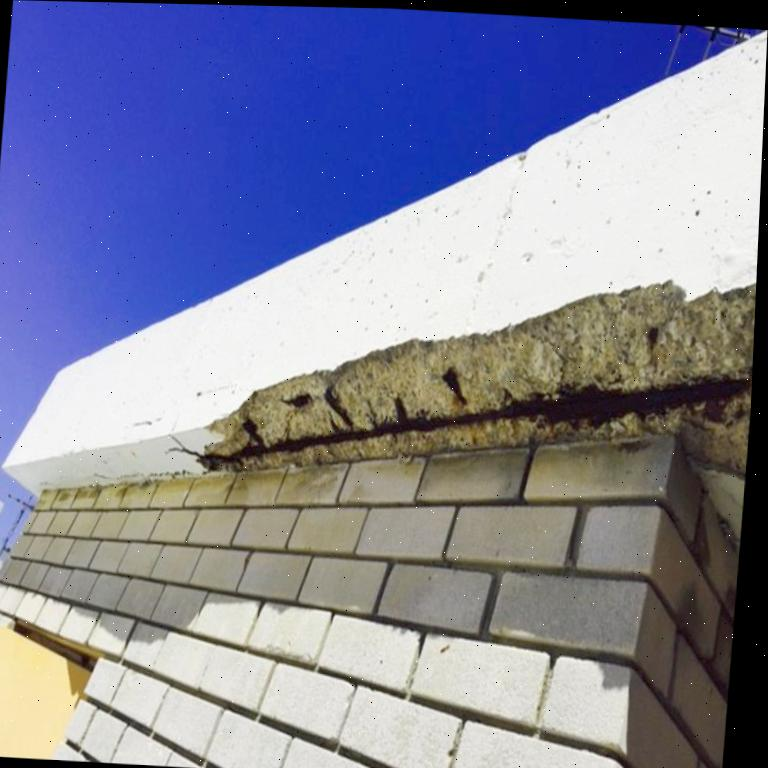exposed_rebar: (201, 367, 745, 466)
spalling: (199, 282, 756, 476)
